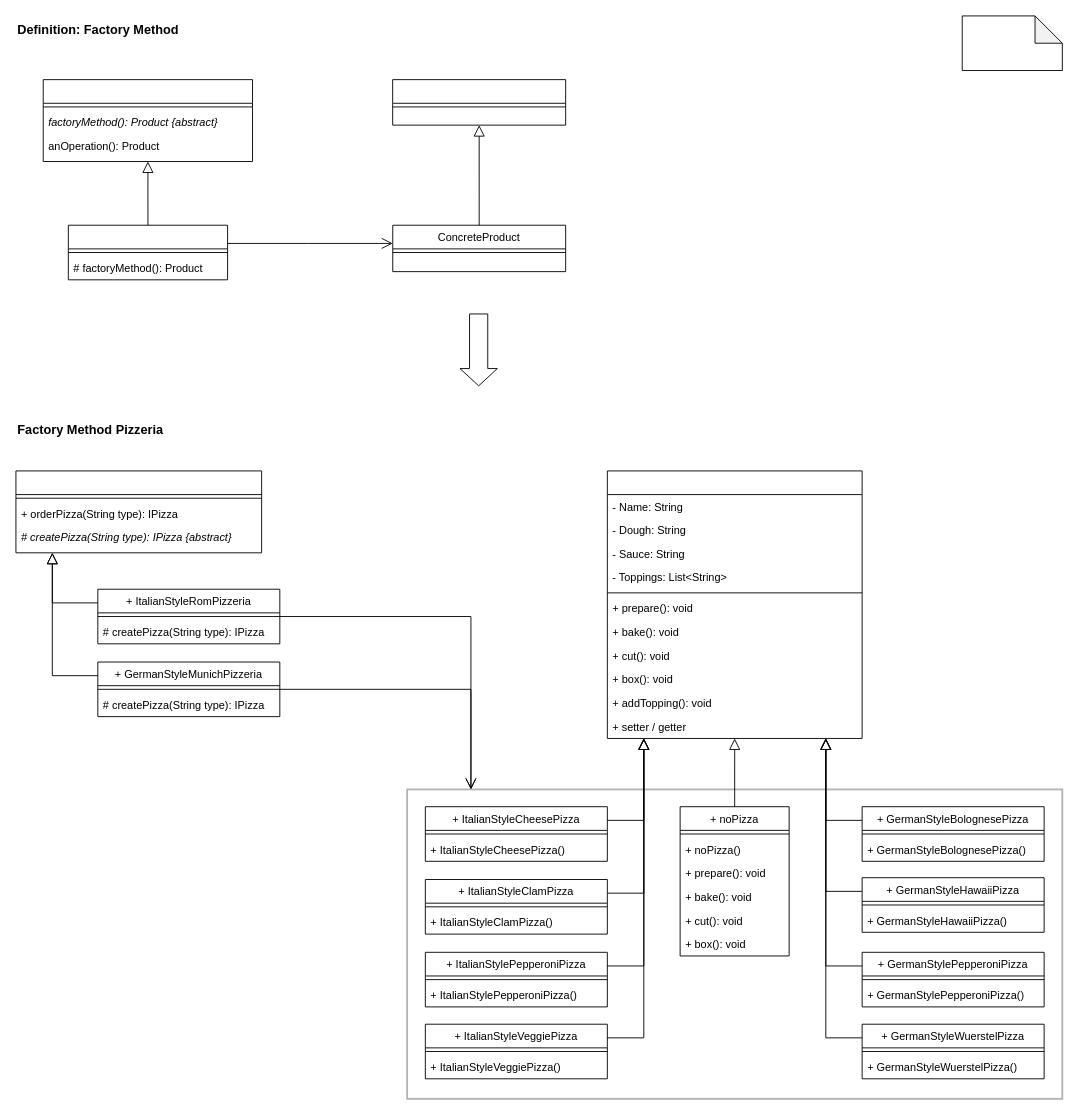
Image size: 1079x1116. Some labels were removed from this diagram. The box of each missing label's shape, as (x1, y1, x2, y2) in pixels:
+ IFactoryMethodPizzeria {abstract}: (15, 470, 262, 553)
+ IPizza {abstract}: (606, 470, 862, 738)
+ puplic - private # protected: (961, 15, 1062, 71)
ConcreteCreator: (67, 224, 228, 280)
Creator {abstract}: (42, 79, 253, 162)
Product {abstract}: (392, 79, 566, 125)
